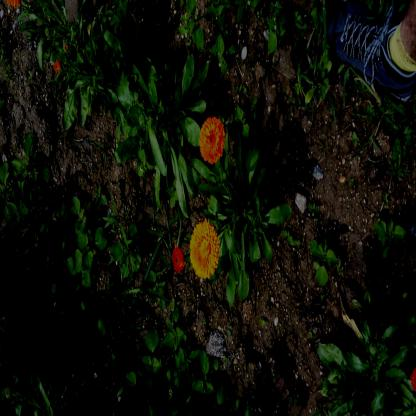marigold: (189, 220, 219, 278), (200, 117, 225, 163)
